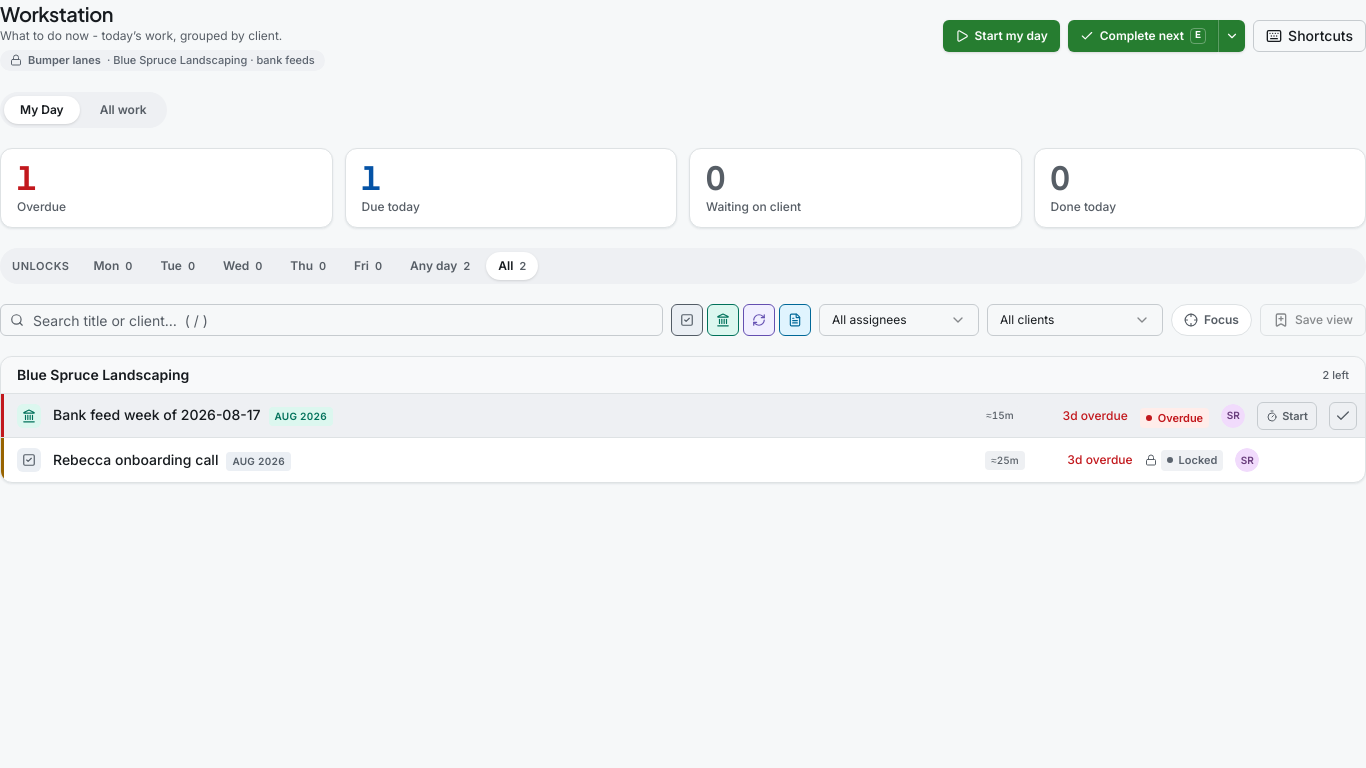
Test: Bumper lanes on the workstation (D6/D8) › a pending request reads as requested; an active grant unlocks the card
Click the tab with test id "view-tab-queue": (123, 110) [84, 96, 163, 124]
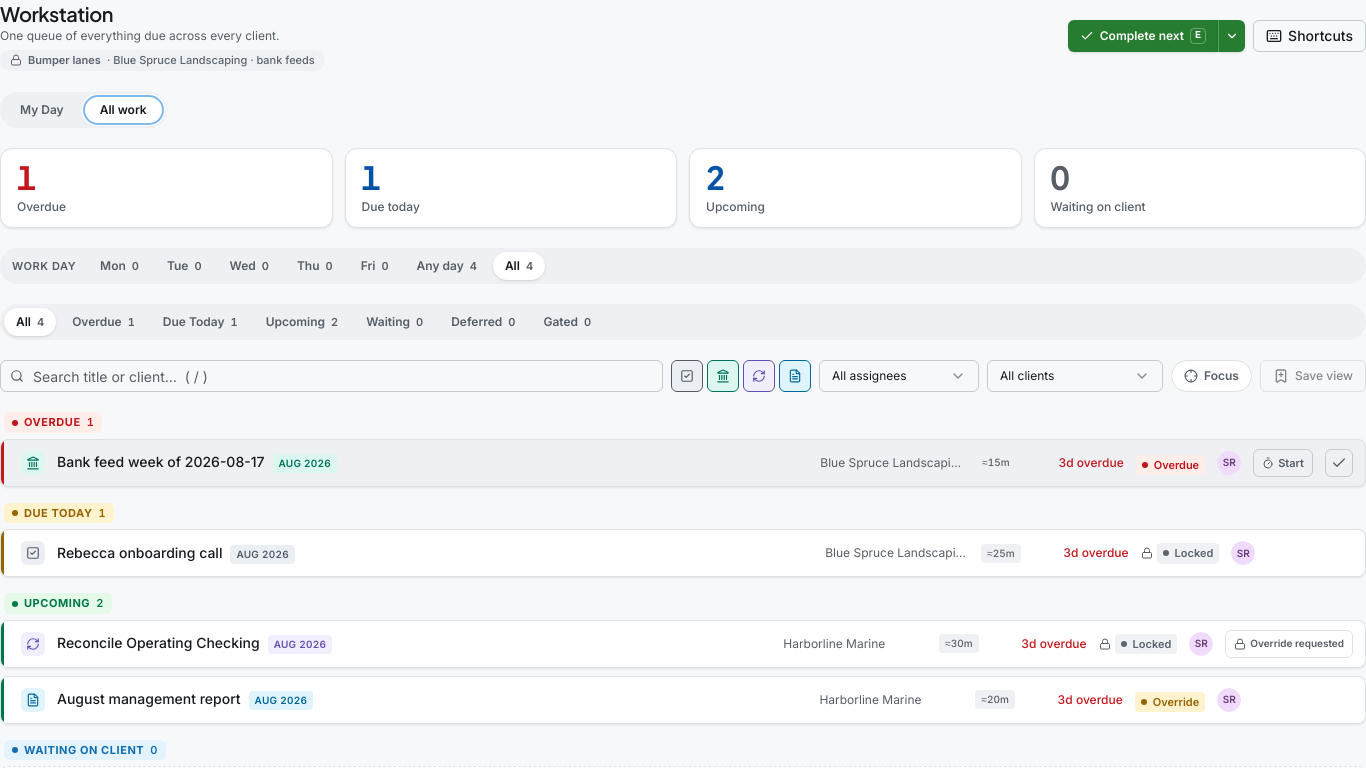
Expected: the element with test id "override-pending" reads "Override requested", [1250, 637, 1344, 649]
Expected: the element with test id "lane-override-active" is shown, [1135, 692, 1205, 712]
